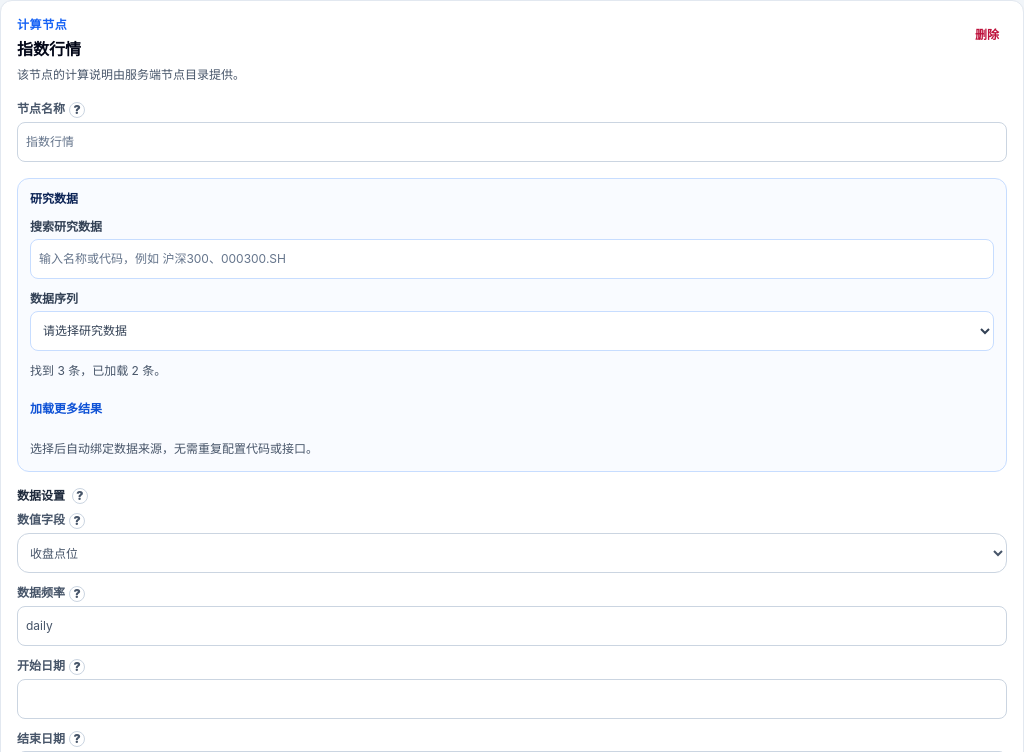
Test: 情景研究数据选择 › 分页加载搜索结果，未下载条目可见但不可绑定
The image size is (1024, 752).
Click the button "加载更多结果": [66, 409] box [30, 391, 102, 427]
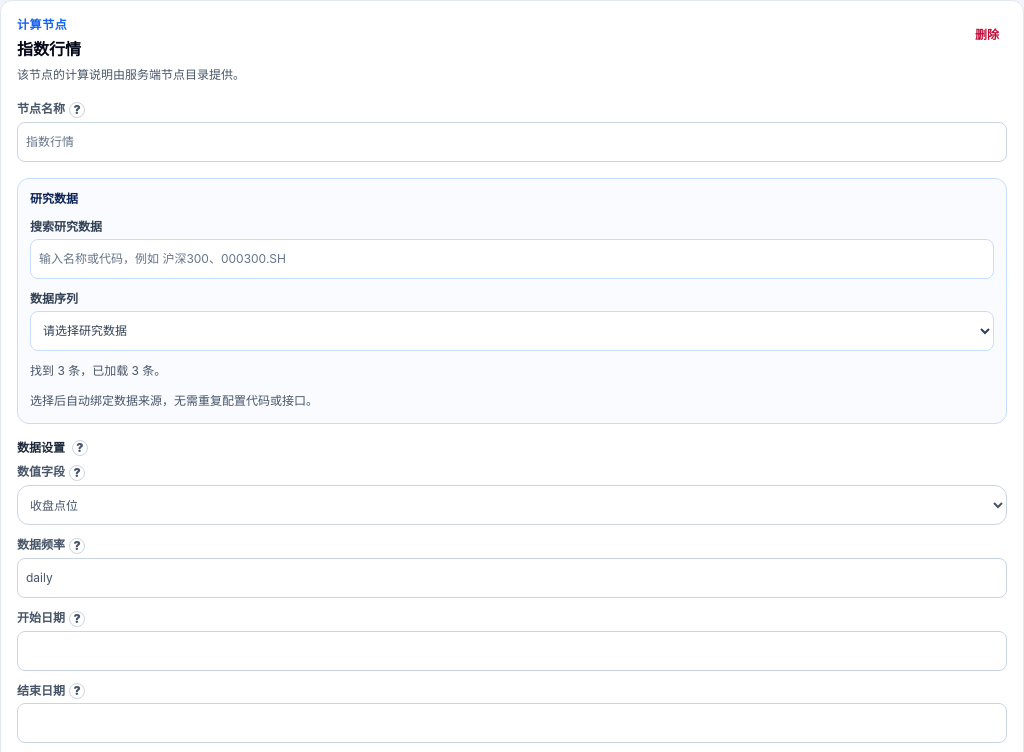
Result: the button "加载更多结果" is gone
